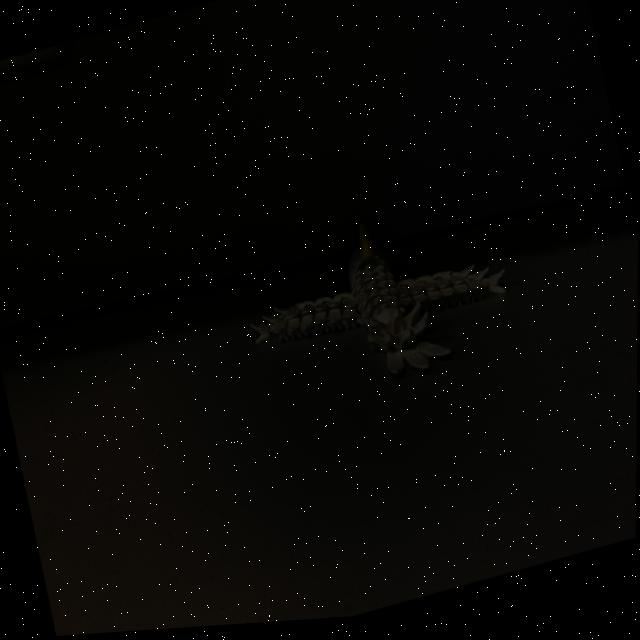cockatoo: (229, 182, 516, 416)
